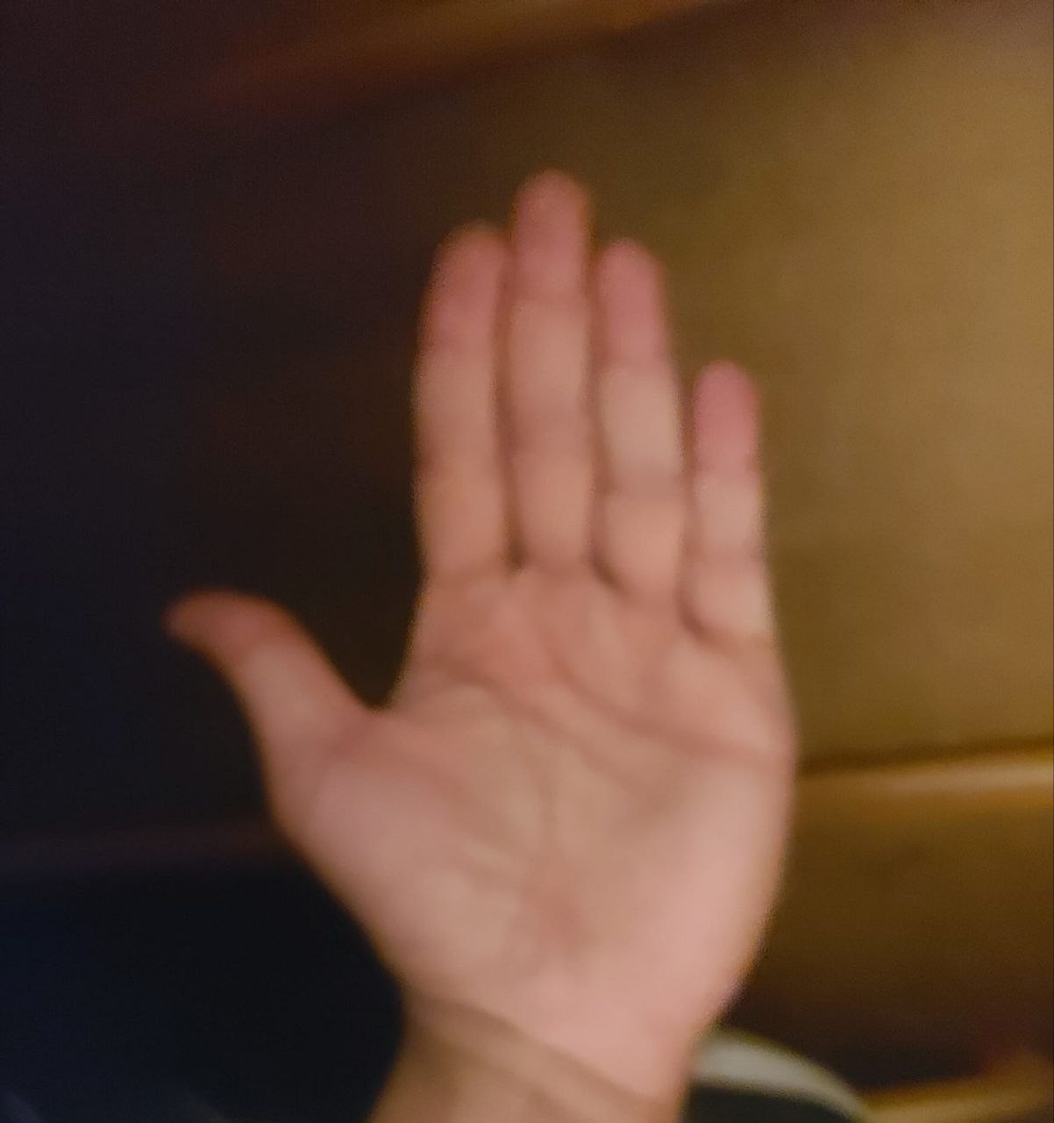Palm: (128, 59, 976, 1096)
